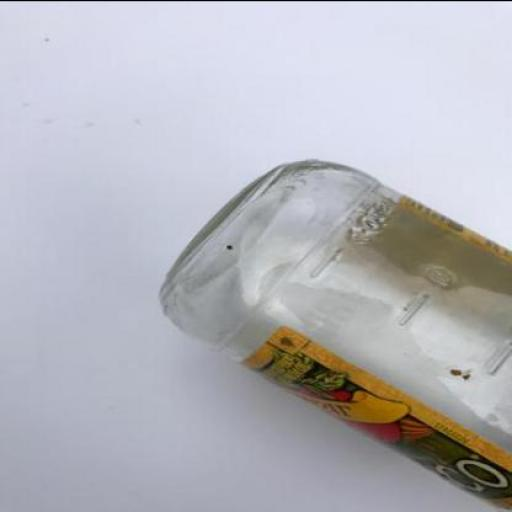glass: (158, 159, 510, 511)
